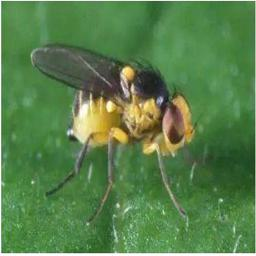liriomyza: (29, 36, 197, 222)
